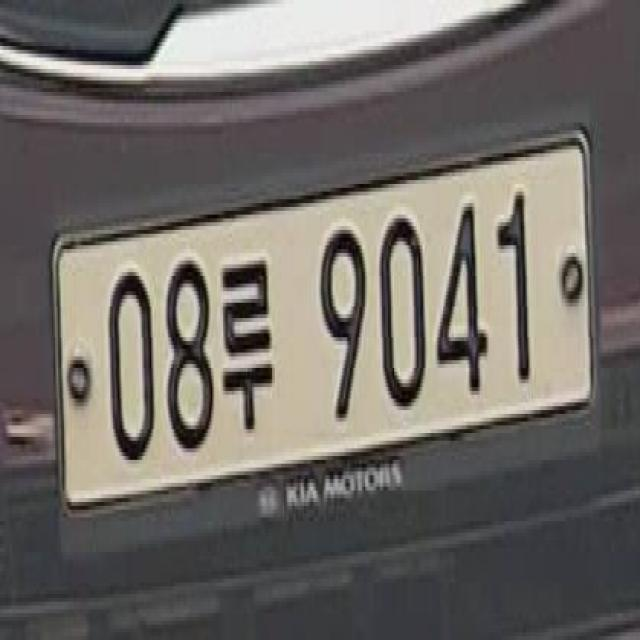illegal_plate: (49, 137, 603, 543)
